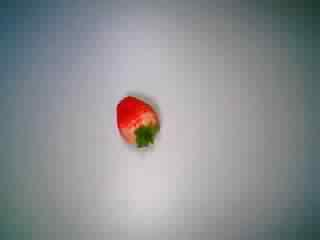strawberry: (102, 85, 168, 151)
